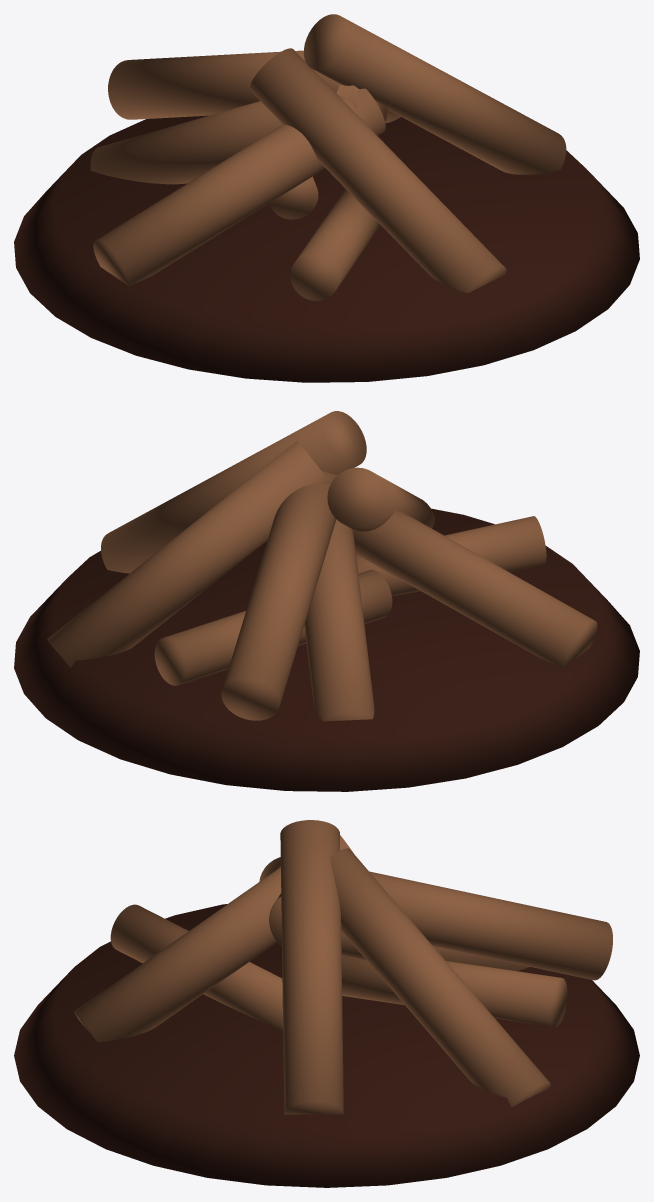
File: bonfire.fbx
3 views of the same model, one above another, from view 1: azimuth 30°, elevation 25°; view 2: azimuth 150°, elevation 25°; view 3: azimuth 270°, elevation 25° (orthographic).
Visible parts, largest first — view 1: Circle; view 2: Circle; view 3: Circle.
Boxes of the visible parts, x1=… form: Circle: x1=14, y1=14, x2=639, y2=382; Circle: x1=14, y1=411, x2=639, y2=791; Circle: x1=14, y1=820, x2=639, y2=1187.
Size of the model in its own units: 351 by 147 by 351.
